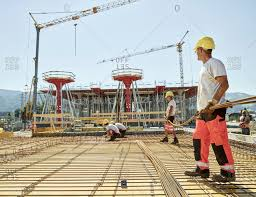helmet: (193, 35, 215, 49), (165, 89, 174, 97)
